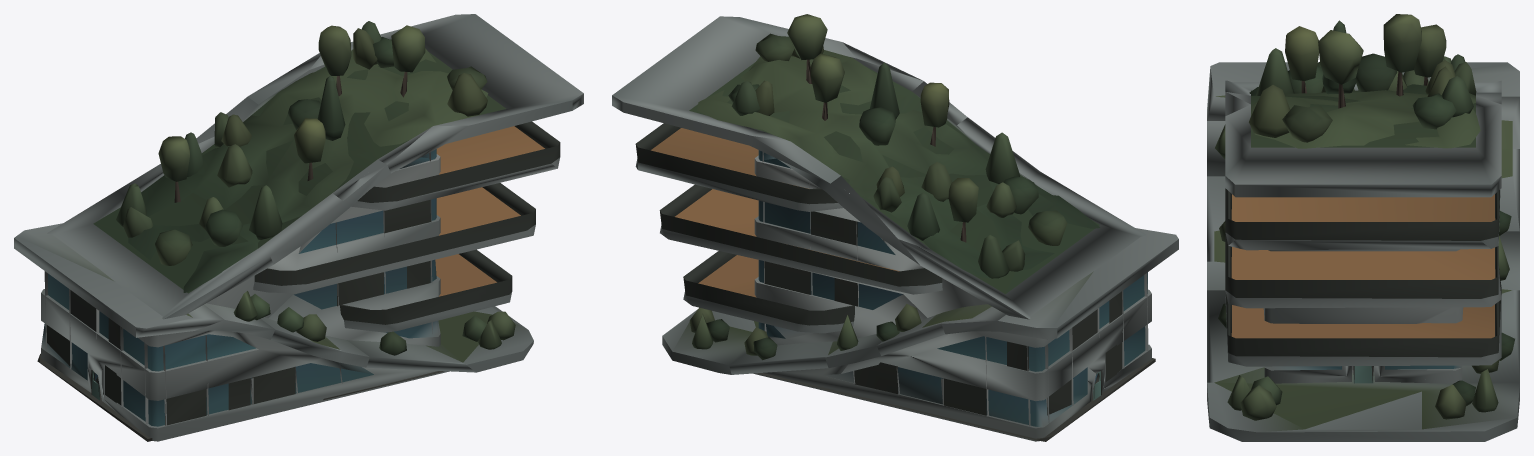
The model's file is ct_bld_terrace.glb.
The picture shows the model from 3 angles, left to right: view 1: azimuth 30°, elevation 25°; view 2: azimuth 150°, elevation 25°; view 3: azimuth 270°, elevation 25°; orthographic projection. The views are drawn at different scales.
Parts seen in each view (by area): view 1: ct_bld_terrace; view 2: ct_bld_terrace; view 3: ct_bld_terrace.
Boxes of the visible parts, <box> form: ct_bld_terrace: <box>14,14,583,441</box>; ct_bld_terrace: <box>612,14,1178,441</box>; ct_bld_terrace: <box>1207,14,1519,441</box>.
Bounding box in the file's own units: 18.9 × 12.15 × 9.54.
